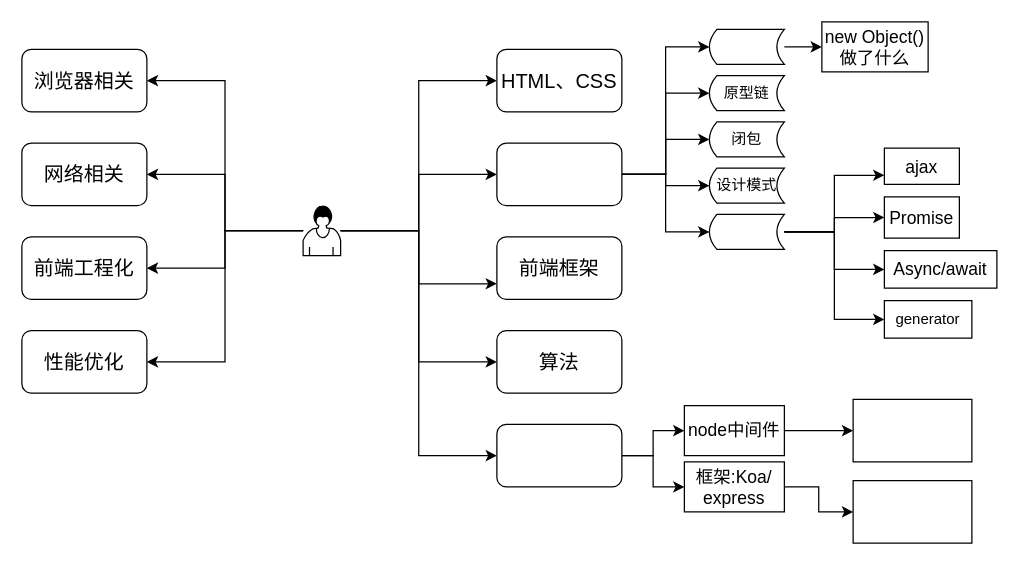
The diagram is 1019 pixels wide and 565 high, and some of its shapes have lost their labels. The centre of each missing label's shape, as x and y in pixels:
JS: point 559,174
Node: point 559,455
常见的中间件/ 是否写过/ 写过哪些功能: point 912,430
异步: point 746,231
数据类型: point 746,46
框架对比（特点、优劣势）: point 912,511
